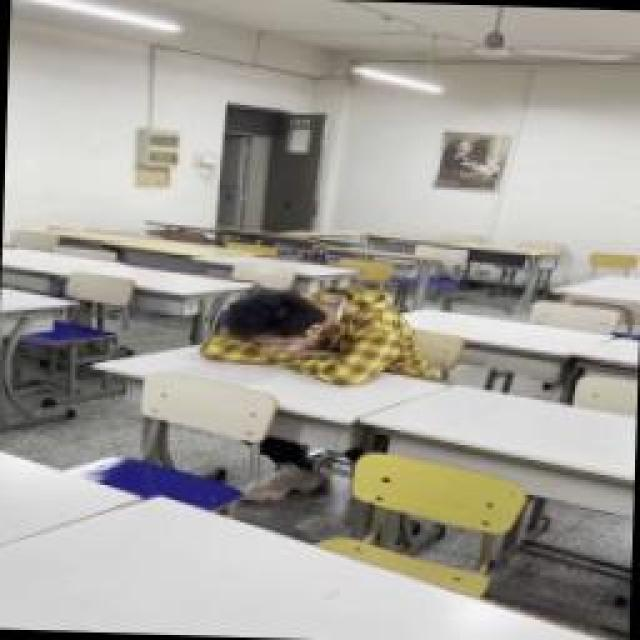sleep: (198, 282, 418, 388)
